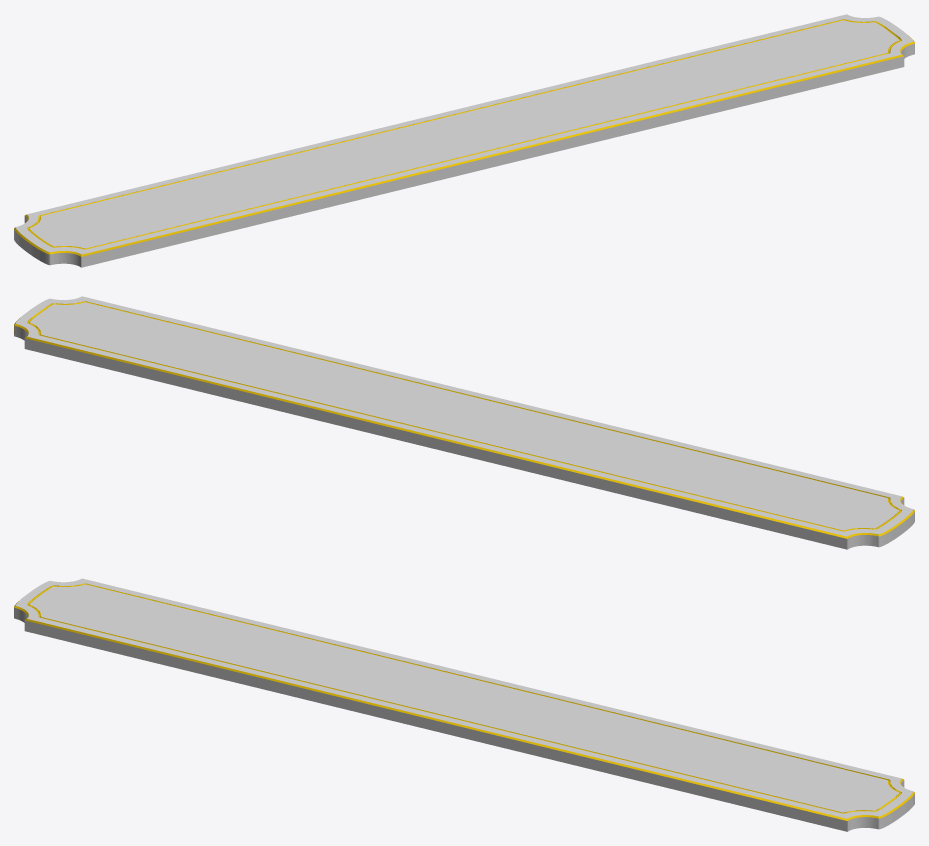
File: quarterboard_2.glb
The picture shows the model from 3 angles, top to bottom: view 1: azimuth 30°, elevation 25°; view 2: azimuth 150°, elevation 25°; view 3: azimuth 330°, elevation 25°; orthographic projection.
Visible parts, largest first — view 1: BORDERS_curve_.008, BORDERS_curve_.006; view 2: BORDERS_curve_.008, BORDERS_curve_.006; view 3: BORDERS_curve_.008, BORDERS_curve_.006.
Boxes of the visible parts, x1,y1,x2,y2 form: BORDERS_curve_.008: (14,14,914,267); BORDERS_curve_.006: (14,19,914,256); BORDERS_curve_.008: (14,296,914,549); BORDERS_curve_.006: (14,301,914,538); BORDERS_curve_.008: (14,578,914,831); BORDERS_curve_.006: (14,583,914,820).
Size of the model in its own units: 40 by 0.5346 by 4.5.
